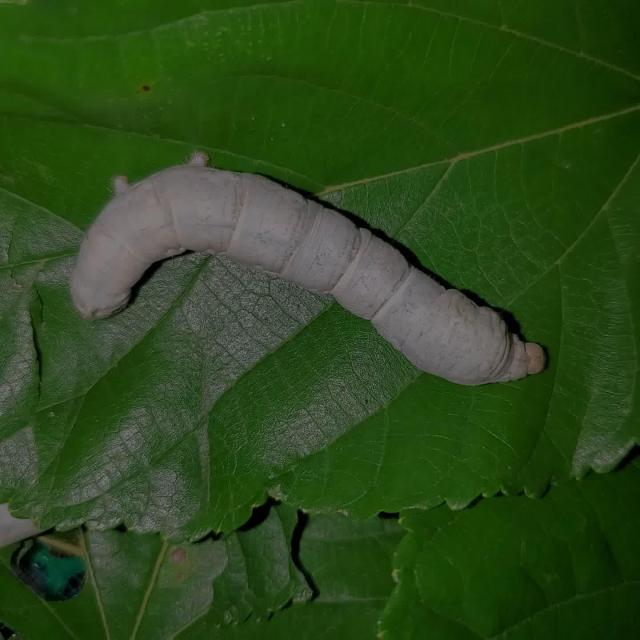Healthy: (46, 128, 567, 417)
